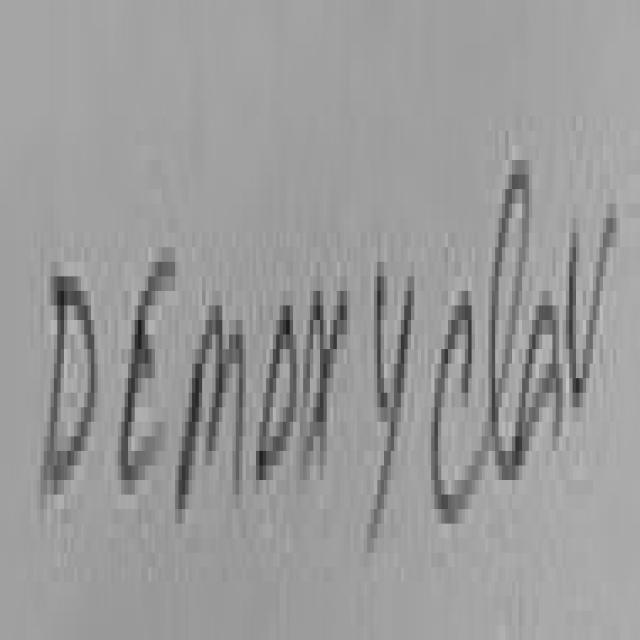D: (33, 198, 107, 566)
E: (114, 206, 178, 533)
M: (182, 259, 250, 560)
O: (257, 266, 300, 533)
X: (300, 252, 350, 540)
a: (511, 257, 567, 520)
c: (431, 228, 488, 566)
l: (485, 142, 543, 568)
v: (560, 110, 620, 463)
y: (361, 240, 419, 595)
